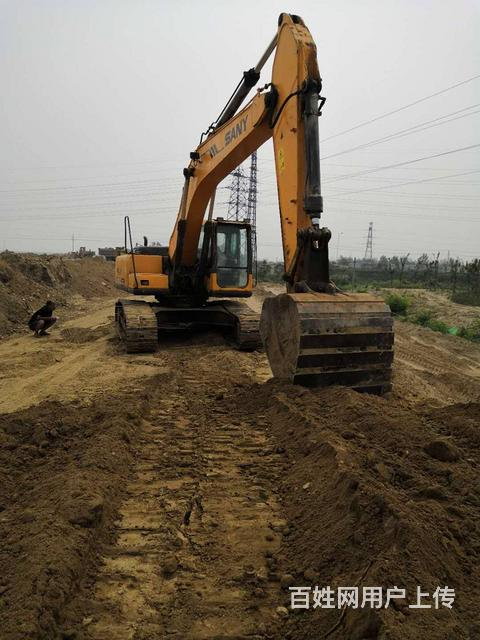excavator: (108, 11, 406, 404)
